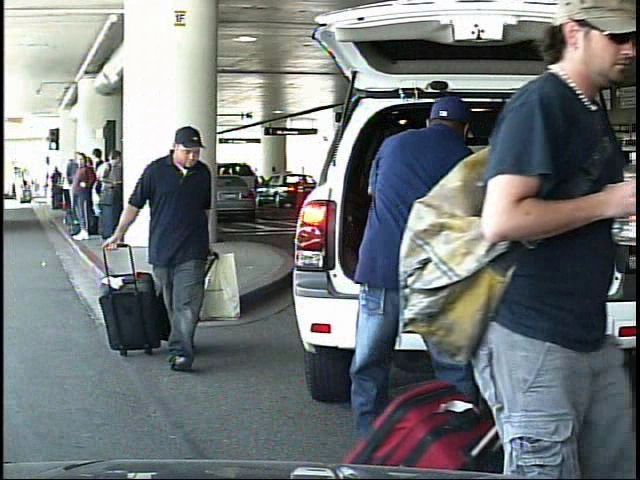person: (431, 12, 623, 476), (327, 81, 504, 476), (101, 122, 235, 378), (14, 173, 24, 204)
